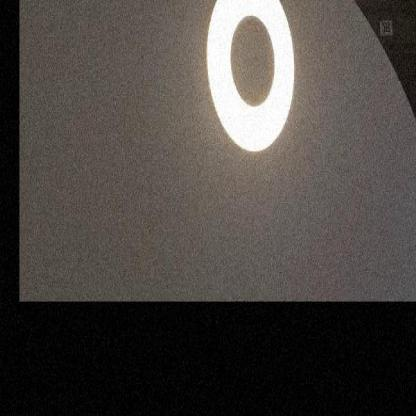light_on: (198, 0, 310, 172)
